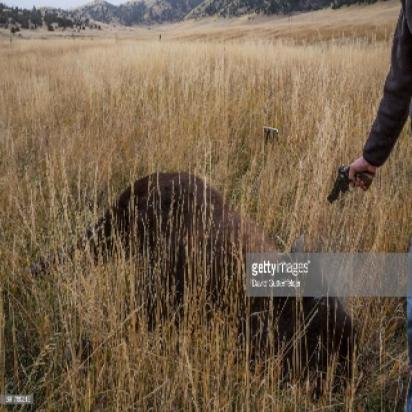Gun: (324, 159, 374, 206)
